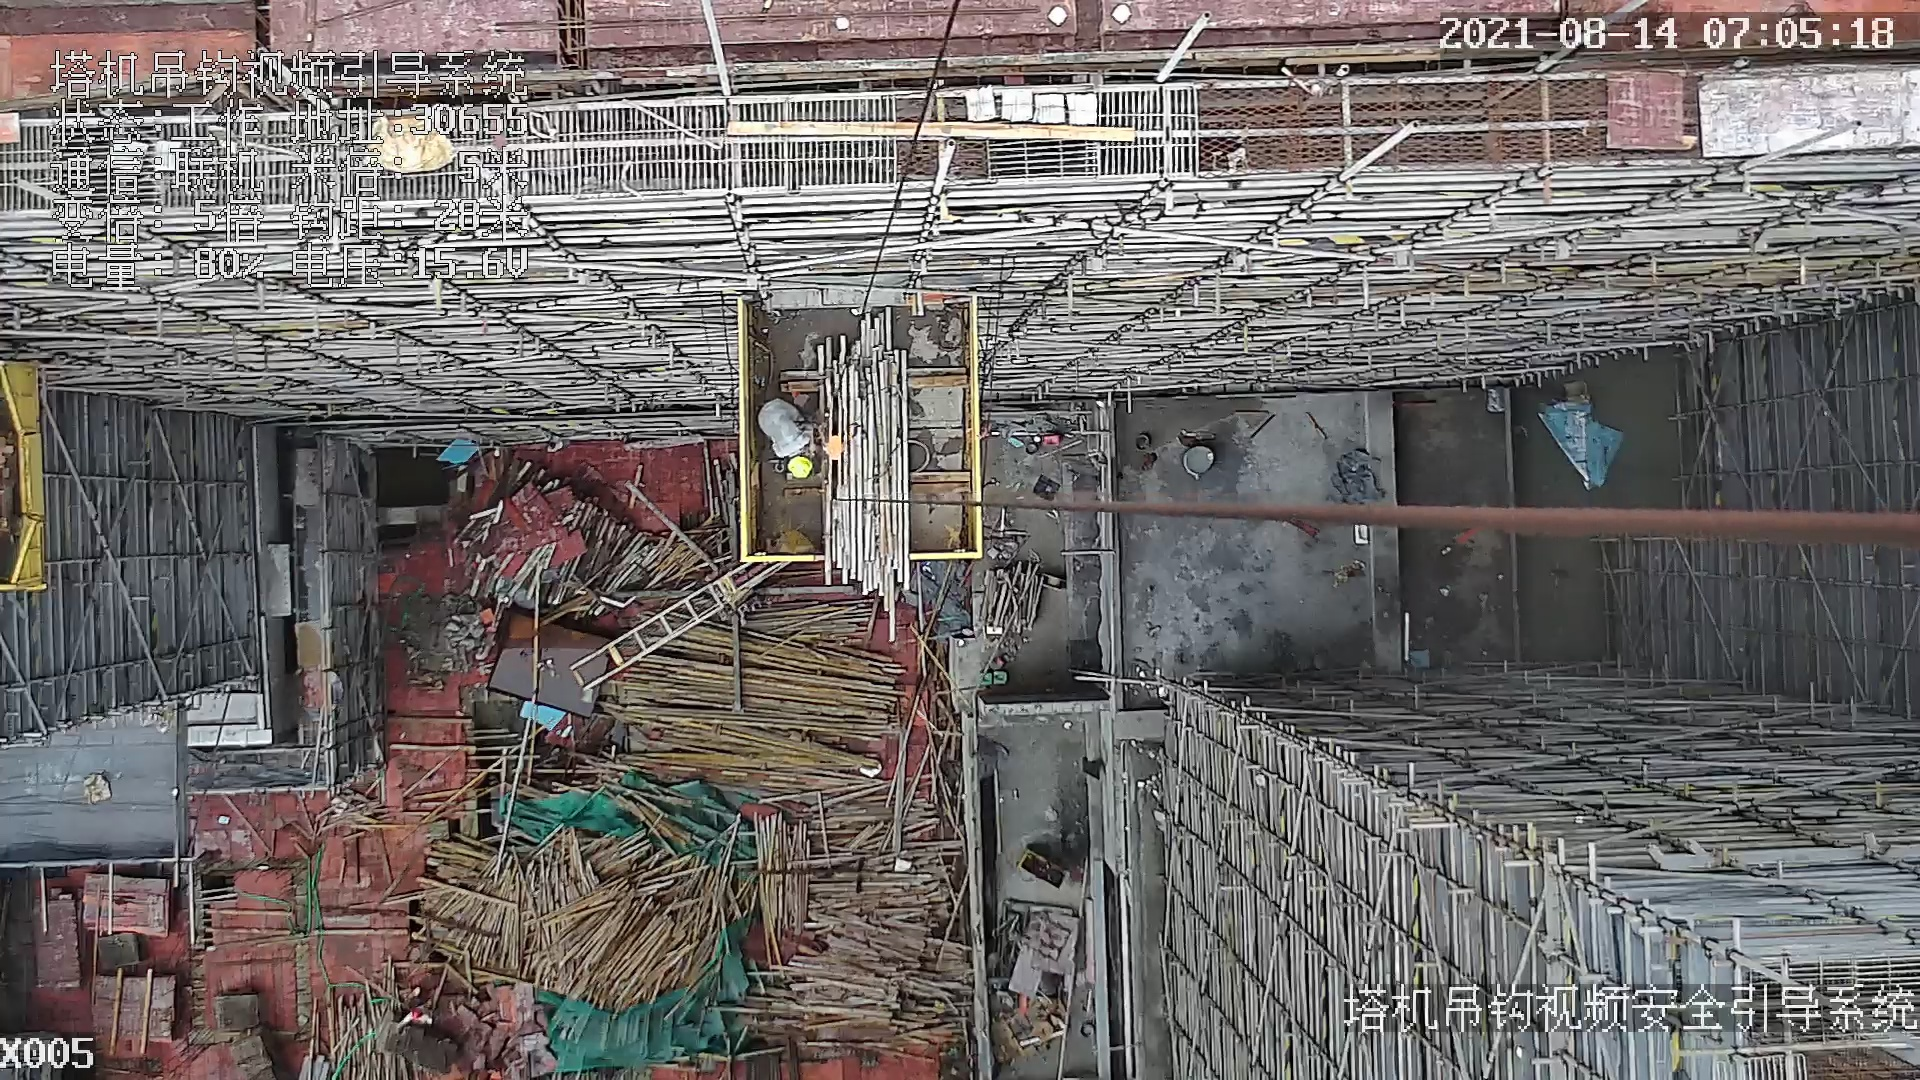helmet: (786, 454, 813, 481)
hook: (818, 385, 849, 506)
person: (751, 400, 814, 486)
